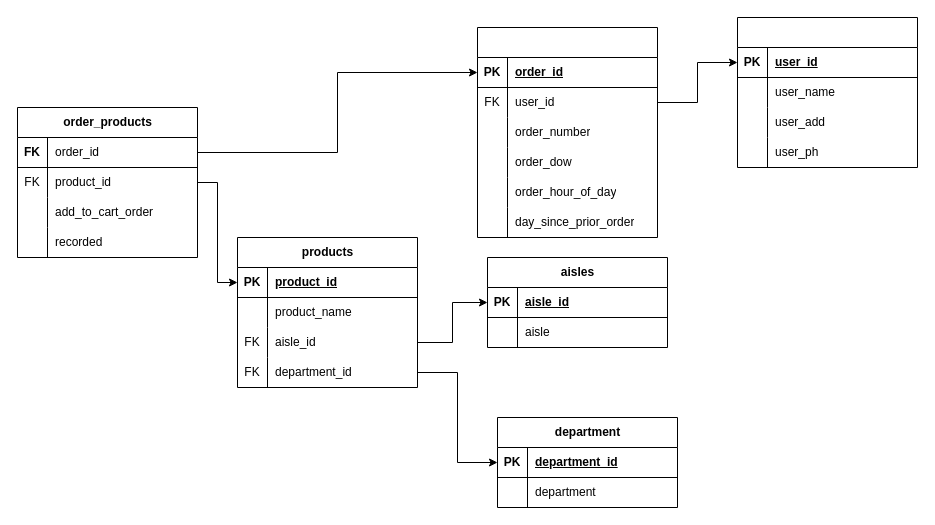
The diagram is 935 pixels wide and 525 high, and some of its shapes have lost their labels. The box of each missing label's shape, as (x1, y1, x2, y2) in pixels:
orders: (476, 26, 658, 238)
users: (736, 16, 918, 168)
